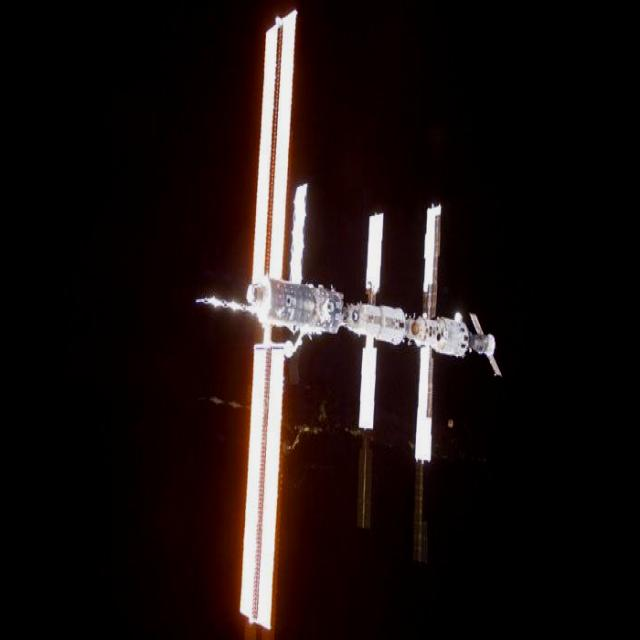satellite: (198, 11, 501, 635)
